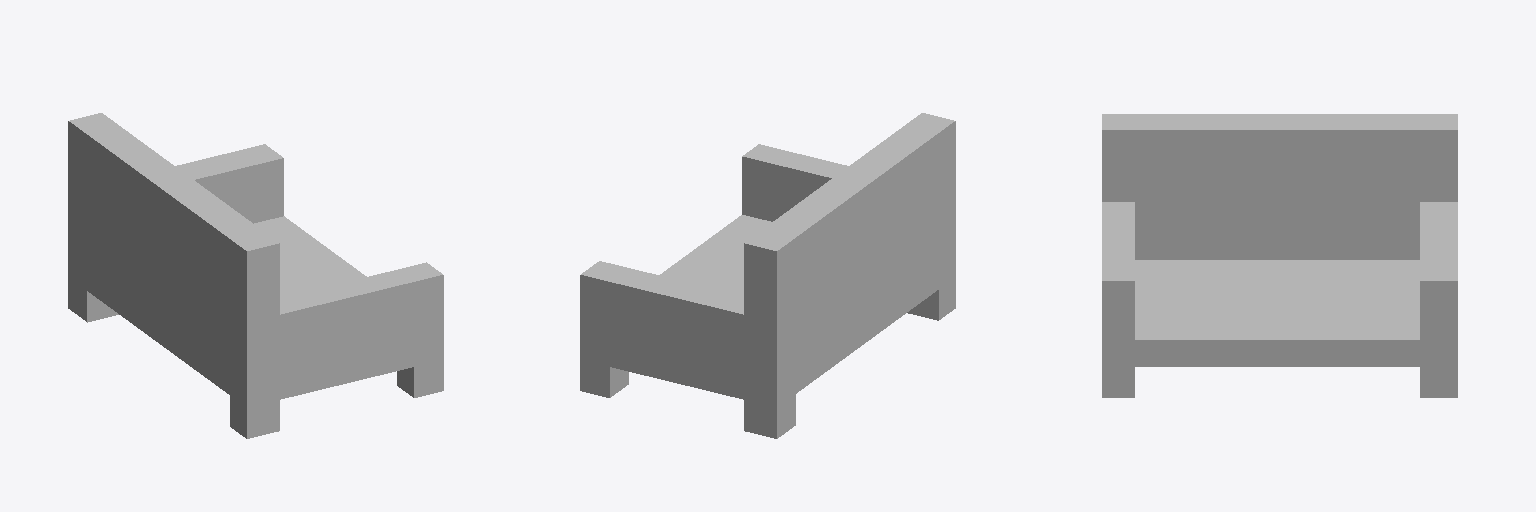
The model's file is temp_couch.obj.
3 renders of one model, left to right at view 1: azimuth 30°, elevation 25°; view 2: azimuth 150°, elevation 25°; view 3: azimuth 270°, elevation 25°, orthographic.
Visible parts, largest first — view 1: pCube1; view 2: pCube1; view 3: pCube1.
Part boxes in pixels (x1,y1,x2,y2): pCube1: (68,113,443,438); pCube1: (580,113,955,438); pCube1: (1102,114,1457,397).
Bounding box in the file's own units: 7.61 × 6.95 × 11.97.